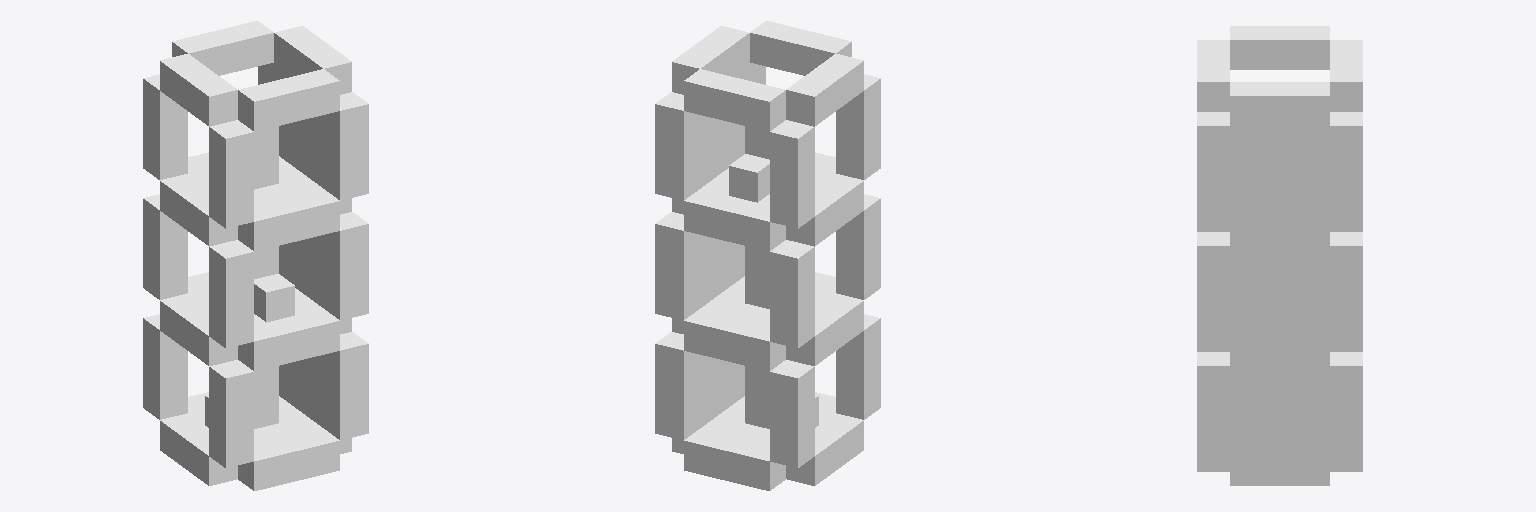
File: Kitchen_cabinets-6.obj
3 views of the same model, side by side, from view 1: azimuth 30°, elevation 25°; view 2: azimuth 150°, elevation 25°; view 3: azimuth 270°, elevation 25° (orthographic).
Parts seen in each view (by area): view 1: object 1; view 2: object 1; view 3: object 1.
Part boxes in pixels (left/top/right/bottom): object 1: left=143, top=21, right=368, bottom=490; object 1: left=655, top=21, right=880, bottom=490; object 1: left=1197, top=26, right=1362, bottom=485.
Bounding box in the file's own units: 0.5 × 1.3 × 0.5.